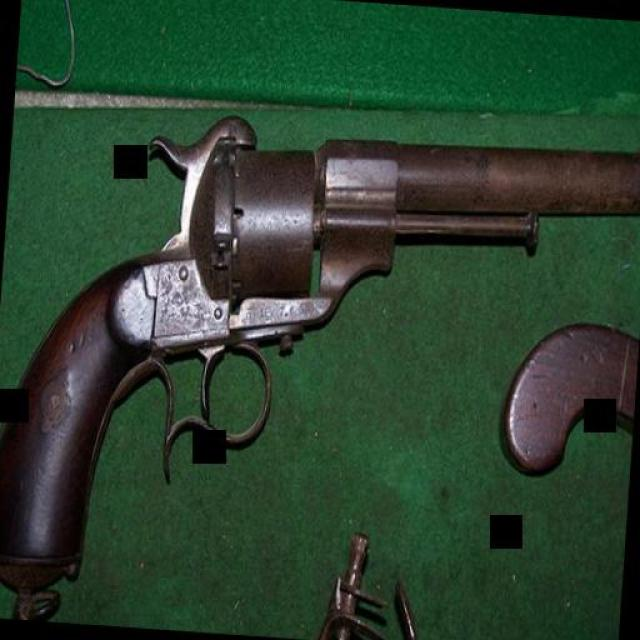gun: (0, 92, 640, 618)
